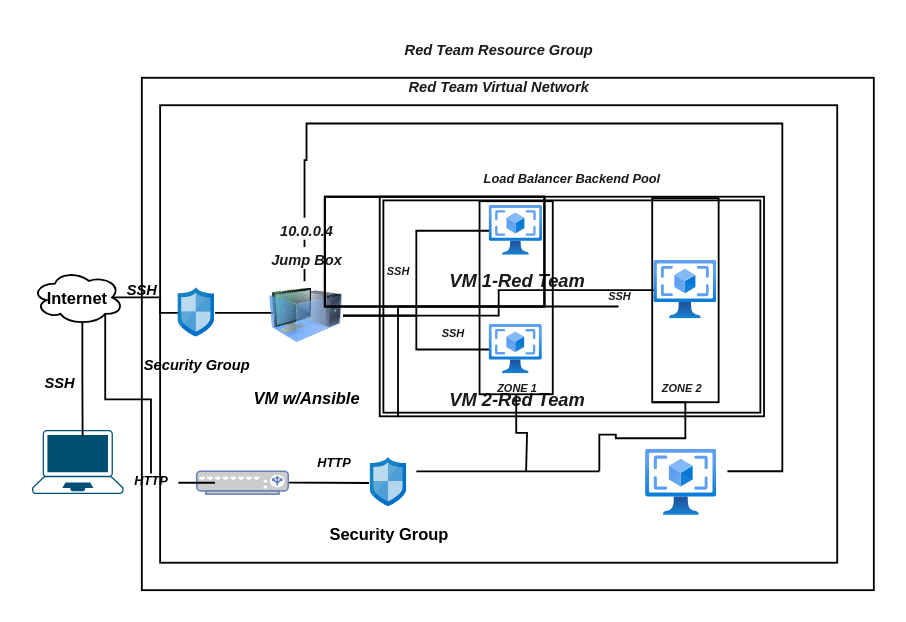
This 906x622 diagram has some shape labels left out. Each missing label, with the box of its shape:
ELK Machine: (645, 449, 716, 515)
Load Balancer: (194, 468, 289, 495)
My Laptop: (31, 429, 123, 493)
VM 3-Red Team: (653, 260, 716, 318)
